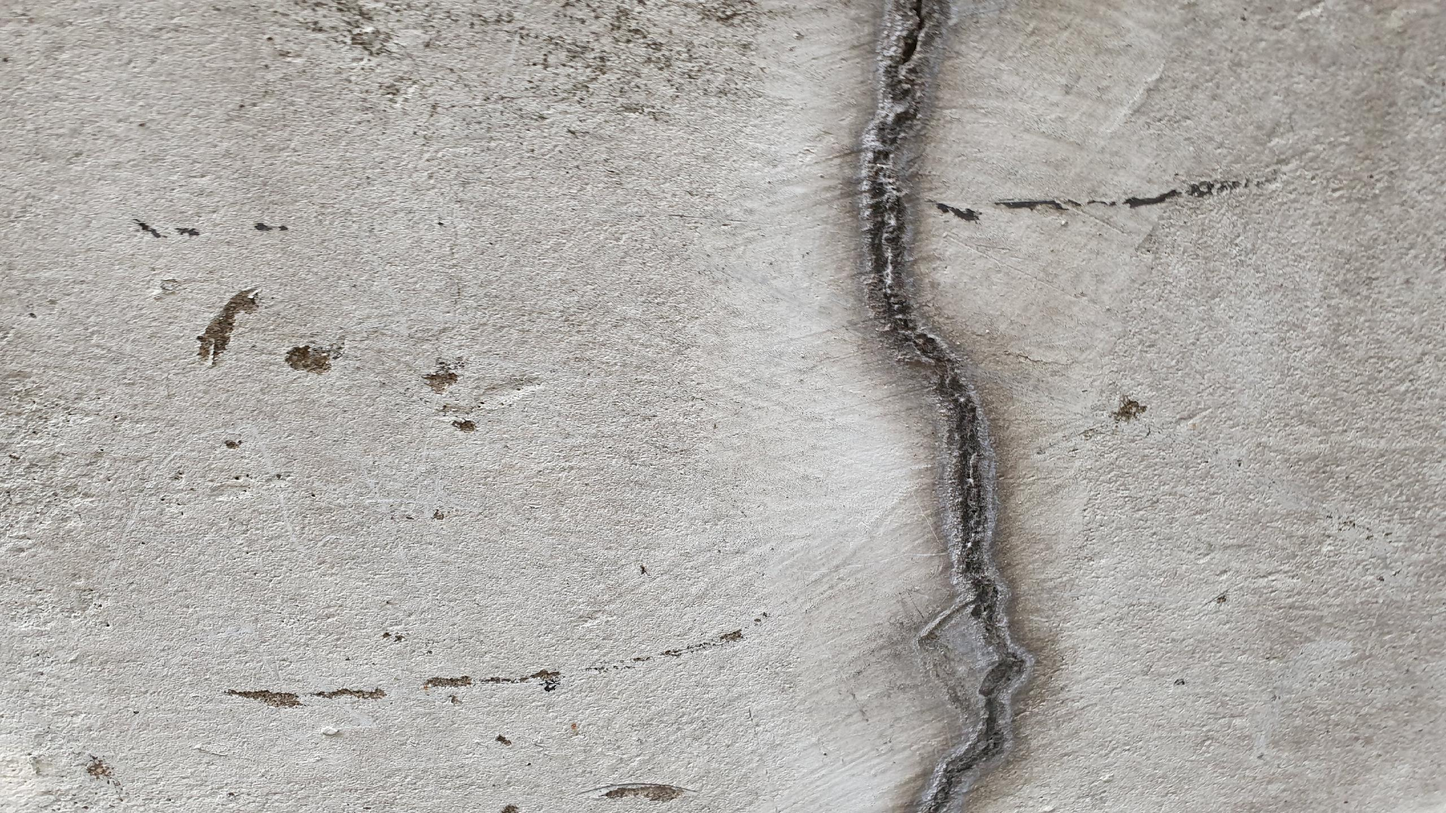crack: (865, 0, 1017, 809)
